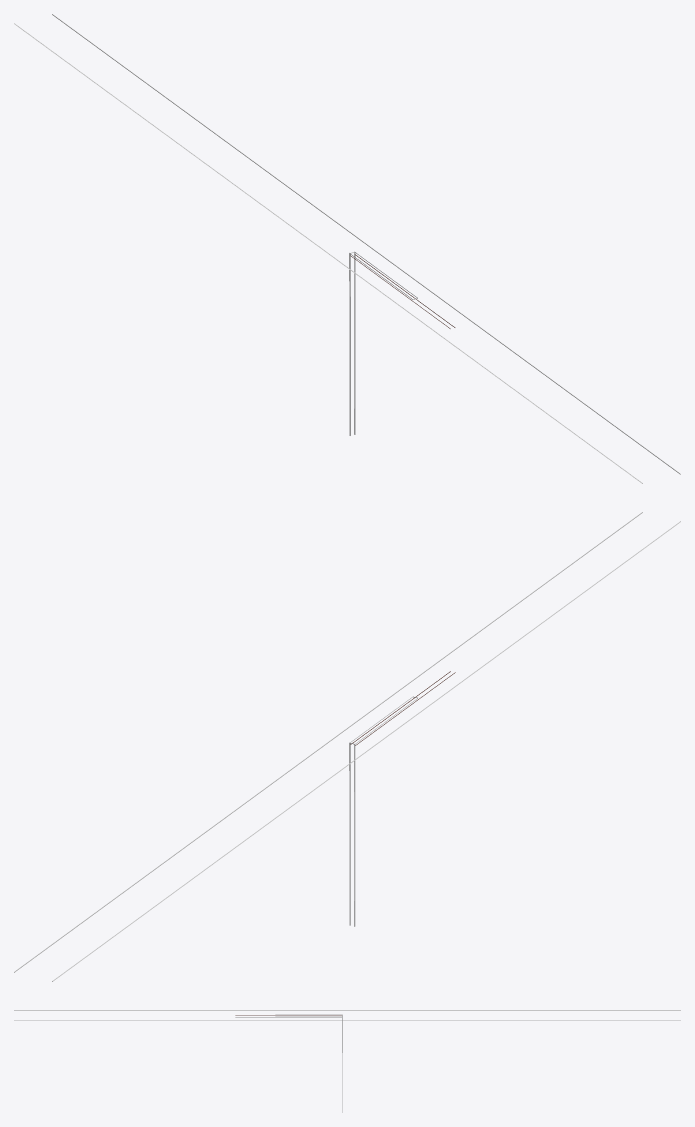
The model's file is FloorConstruction_Triangle.fbx.
The picture shows the model from 3 angles, top to bottom: view 1: azimuth 30°, elevation 25°; view 2: azimuth 150°, elevation 25°; view 3: azimuth 270°, elevation 25°; orthographic projection. The views are drawn at different scales.
Visible parts, largest first — view 1: FloorConstruction_Triangle; view 2: FloorConstruction_Triangle; view 3: FloorConstruction_Triangle.
Part boxes in pixels (x1,y1,x2,y2): FloorConstruction_Triangle: [14, 14, 680, 483]; FloorConstruction_Triangle: [14, 512, 680, 981]; FloorConstruction_Triangle: [14, 1010, 680, 1112].
Bounding box in the file's own units: 35.5 × 161 × 1000.
